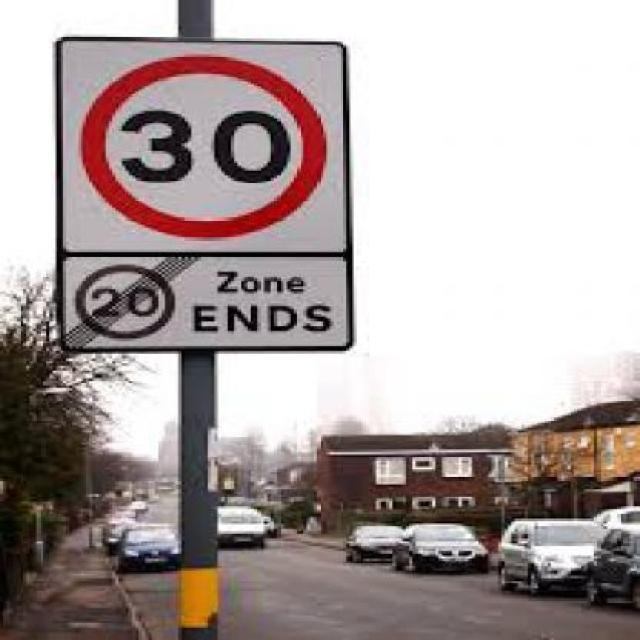forb_speed_over_30: (86, 58, 326, 233)
